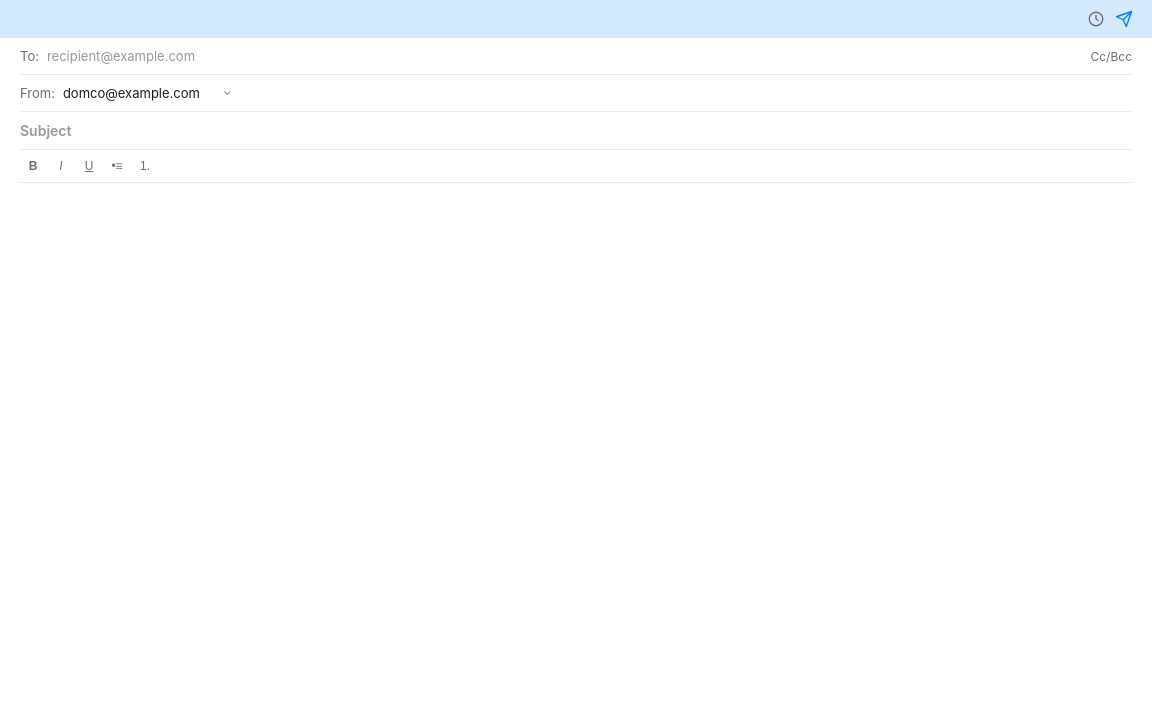
Test: stays open and shows the failure when the close-save fails
This screenshot has width=1152, height=720.
Expected: the dropdown named "From" shows "domco@example.com", x1=63 y1=85 x2=215 y2=101
Type "bob@example.com" into the field named "To" at [565, 56], box x1=47 y1=48 x2=1082 y2=64
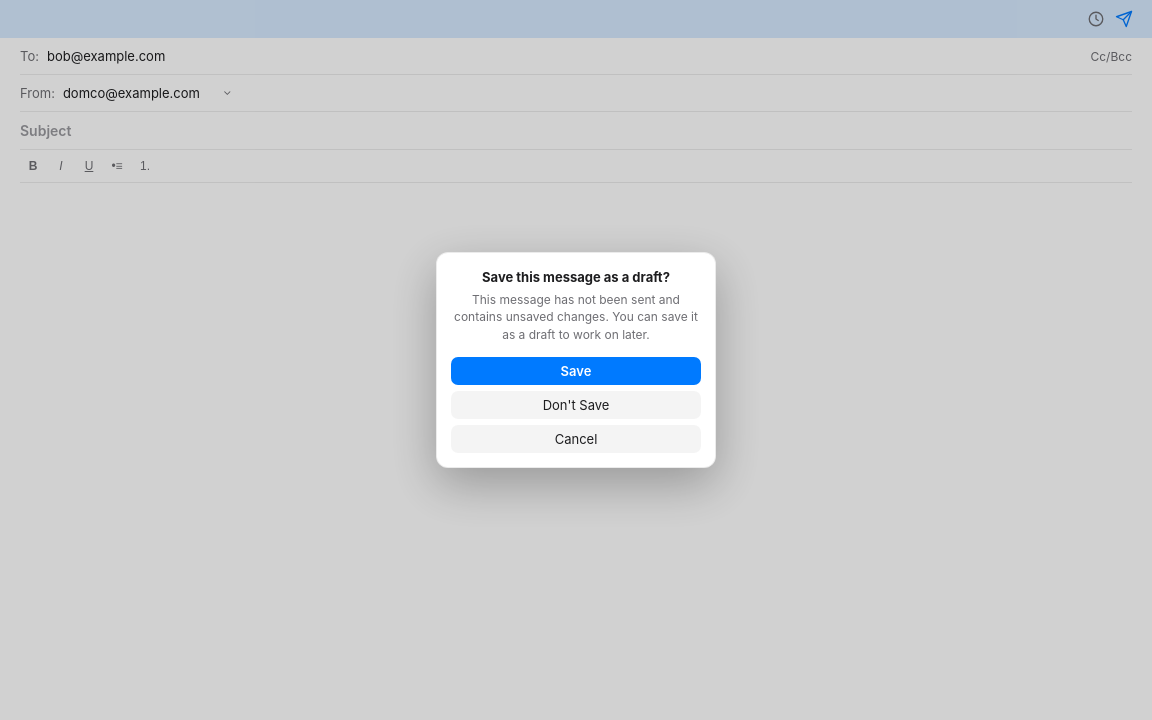
Click the button "Save" at [576, 371], box x1=451 y1=357 x2=701 y2=385
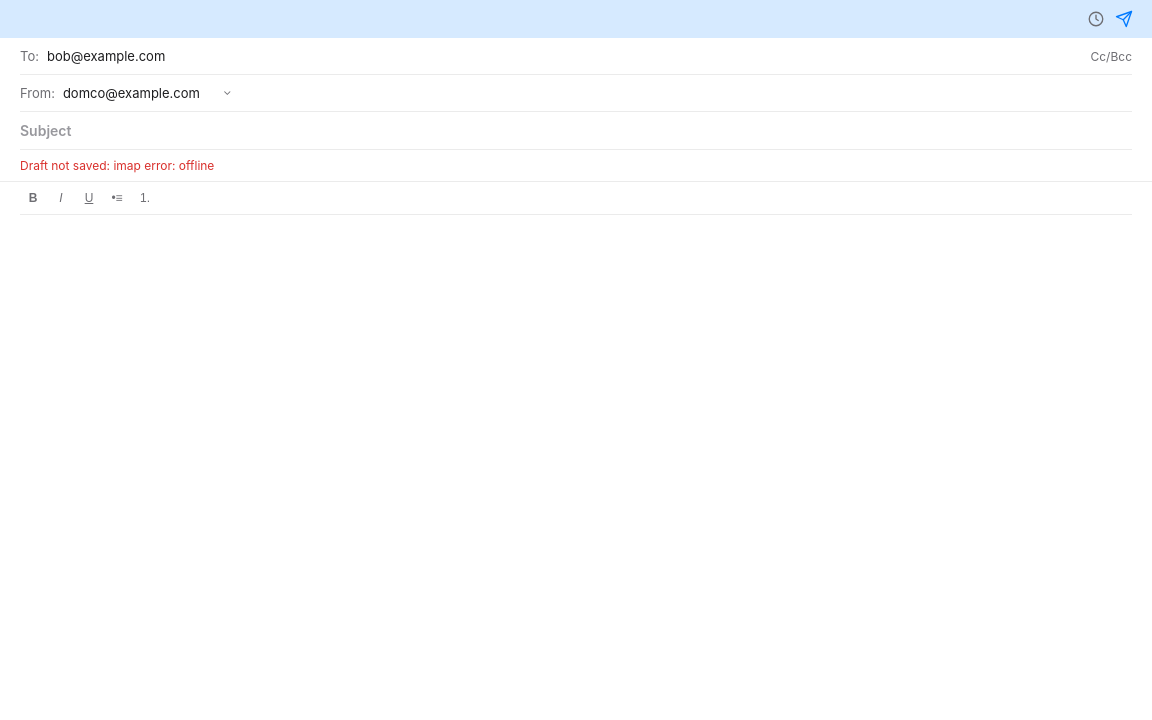
Result: the message reads "Draft not saved: imap error: offline" at x1=20 y1=158 x2=214 y2=173
